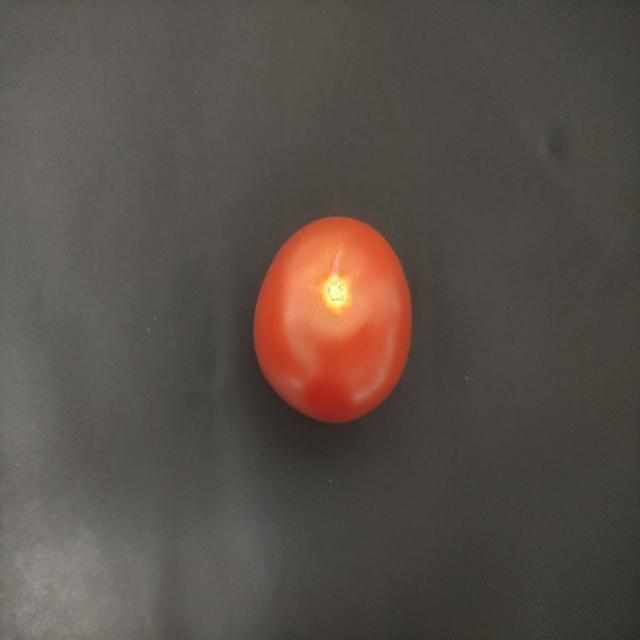kirmizi: (227, 205, 432, 428)
